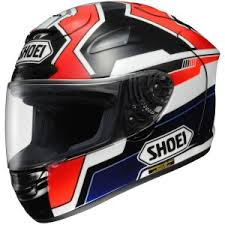helmet: (3, 4, 219, 224)
